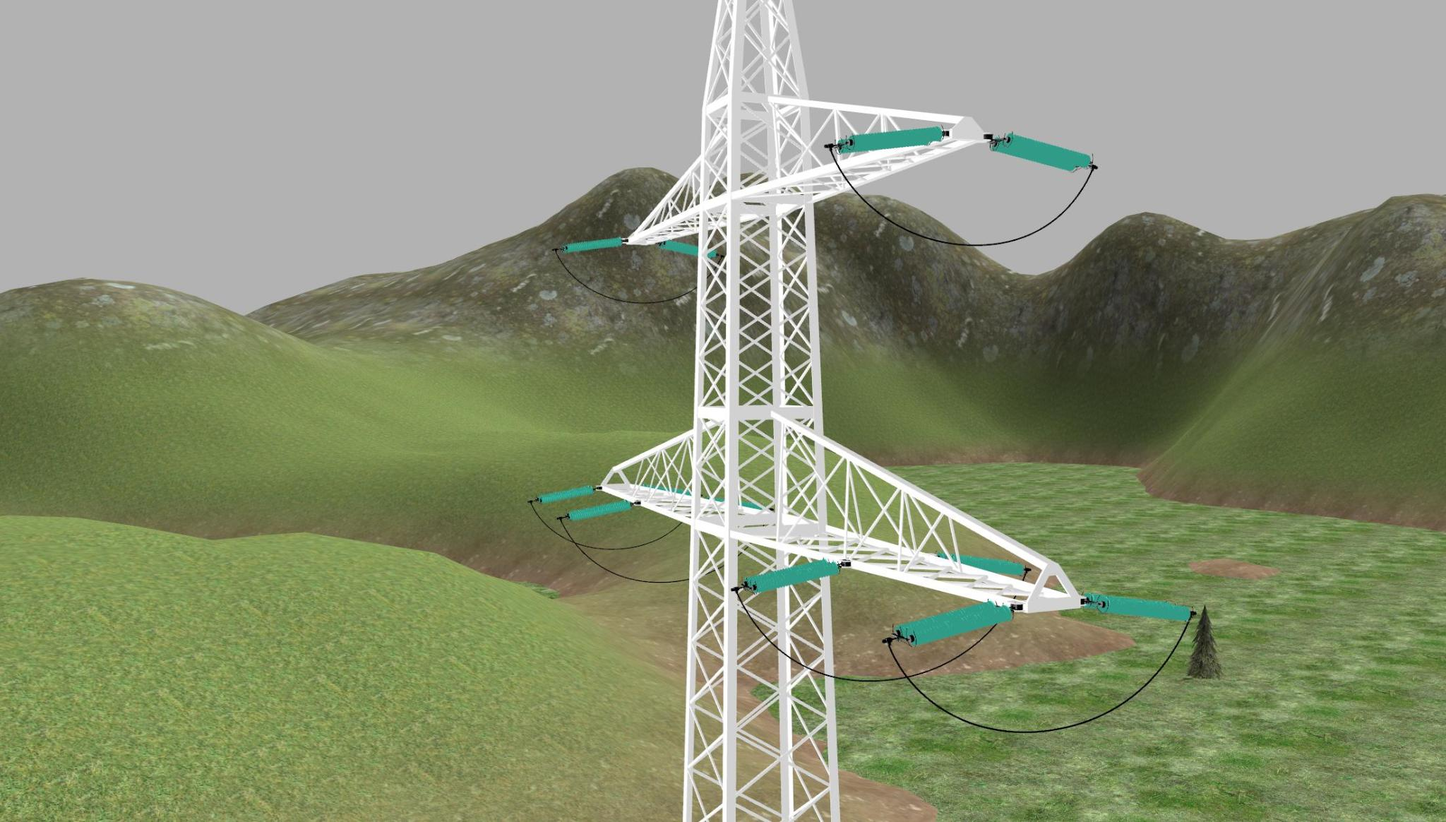tower: (599, 0, 1078, 822)
